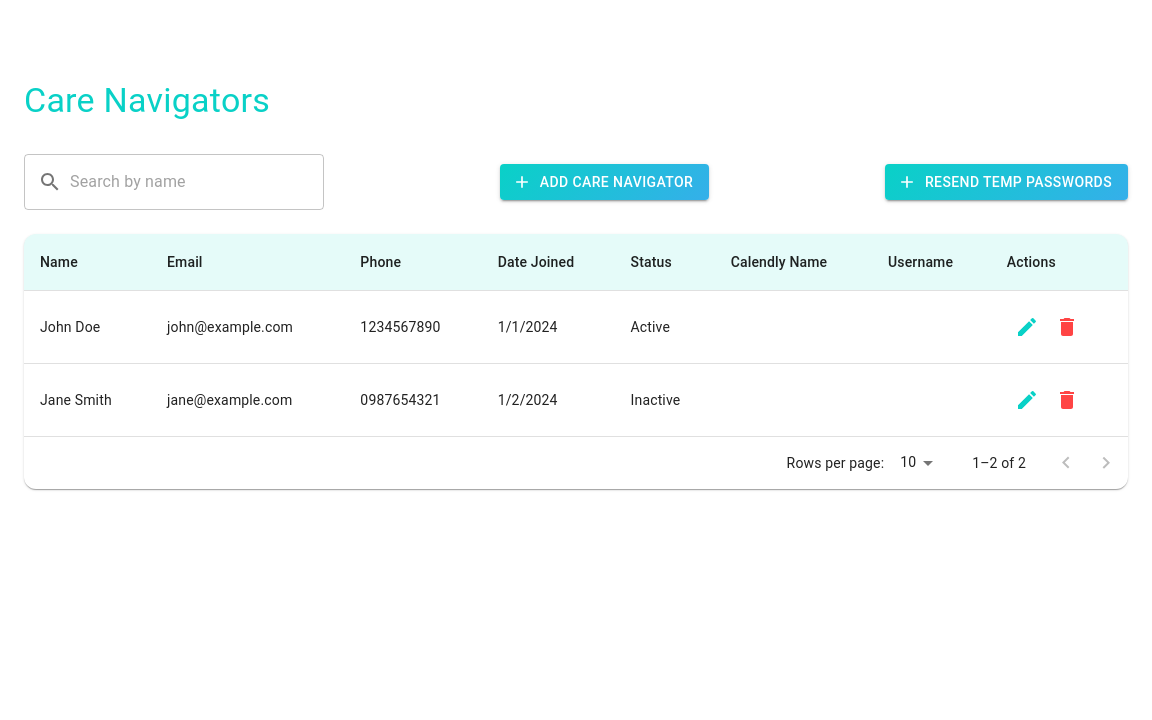
Scenario: CareNavigators Component › Add Care Navigator › opens add dialog when add button is clicked
Click the add button
Click the button with test id "add-button" at (604, 182), box [500, 164, 709, 200]
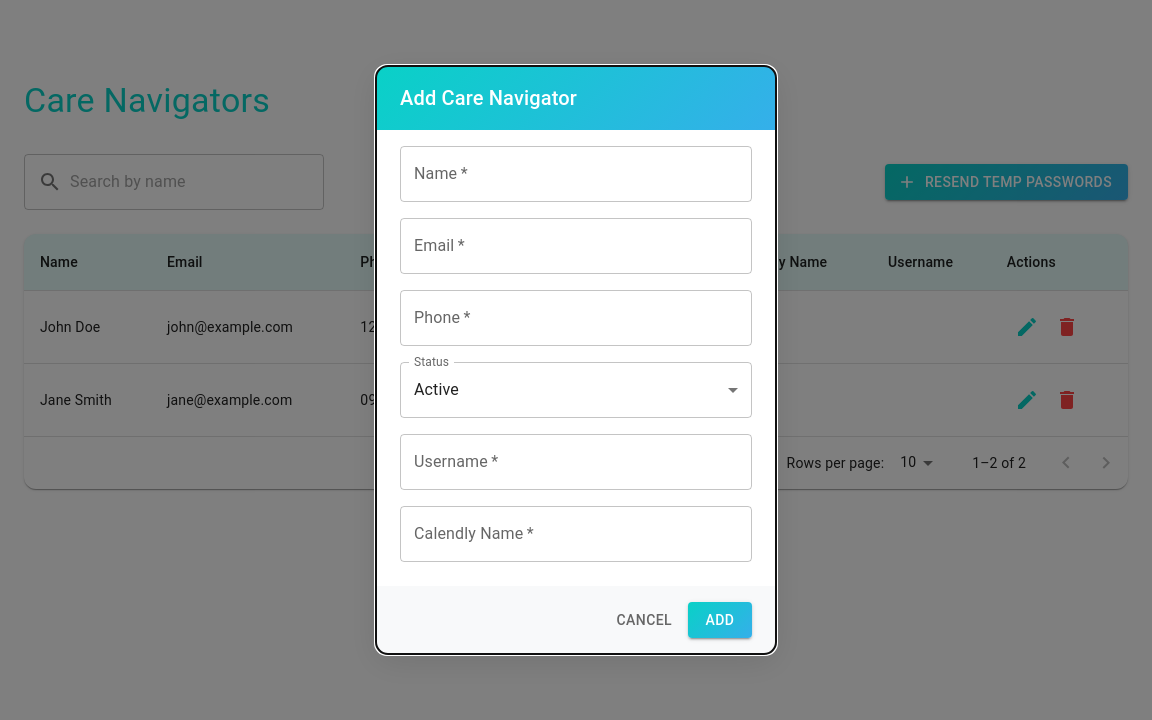
Expected: the element with test id "navigator-dialog" is shown
Expected: the heading with test id "dialog-title" reads "Add Care Navigator", [400, 86, 577, 110]
